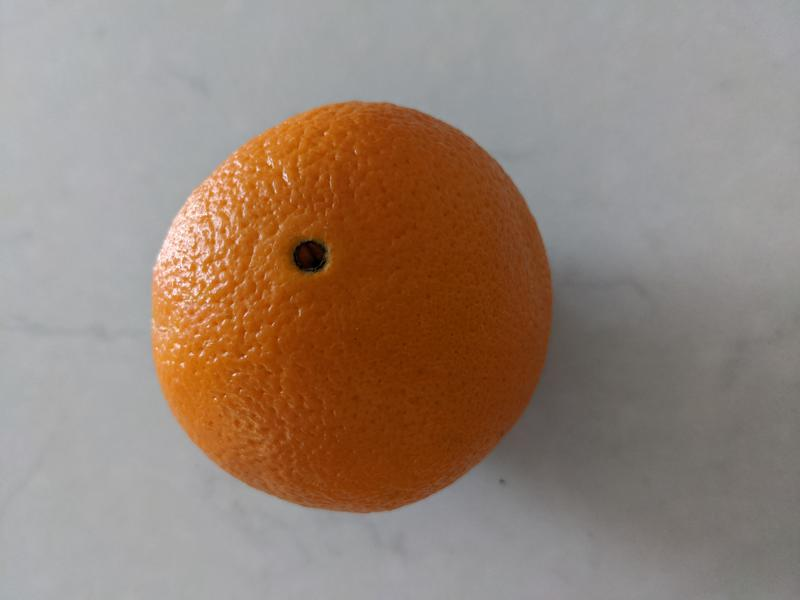orange: (150, 97, 557, 513)
